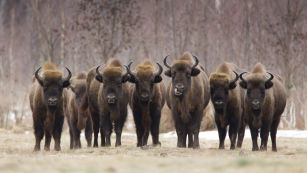zubr: (161, 42, 213, 156), (18, 47, 73, 153), (238, 58, 291, 157), (87, 47, 131, 145), (124, 51, 166, 152), (204, 54, 244, 154)
